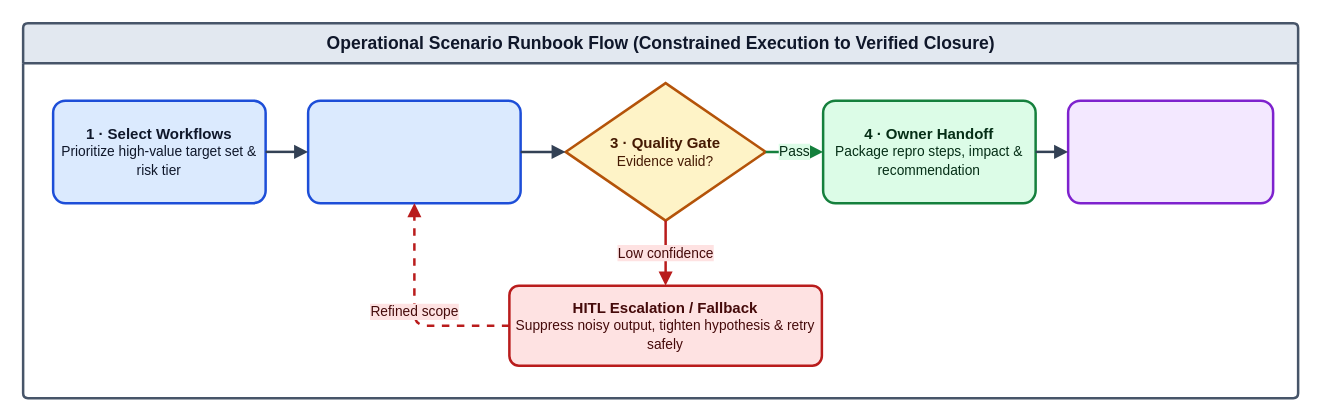
This 1320x420 diagram has some shape labels left out. Each missing label, with the centre of its shape:
"2 · Constrained Run Execute within policy & stop conditions" goes at point 413,151.
"5 · Verify & Close Re-test deployed fix & update eval suite" goes at point 1170,151.
